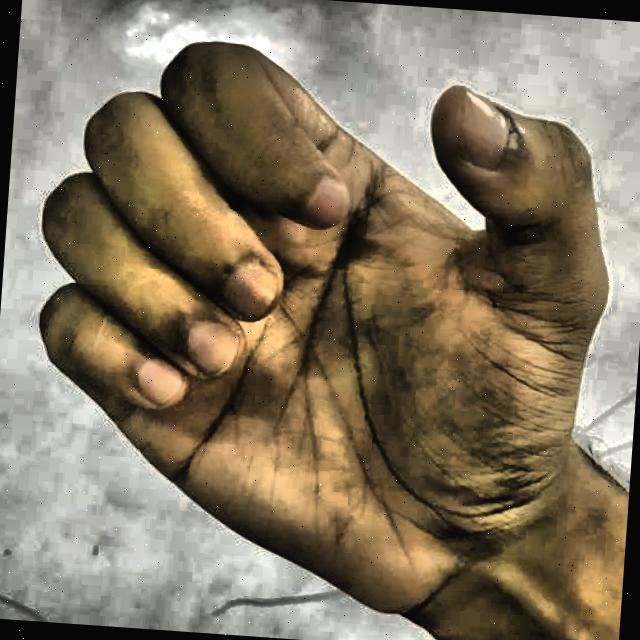Dho: (2, 11, 634, 640)
